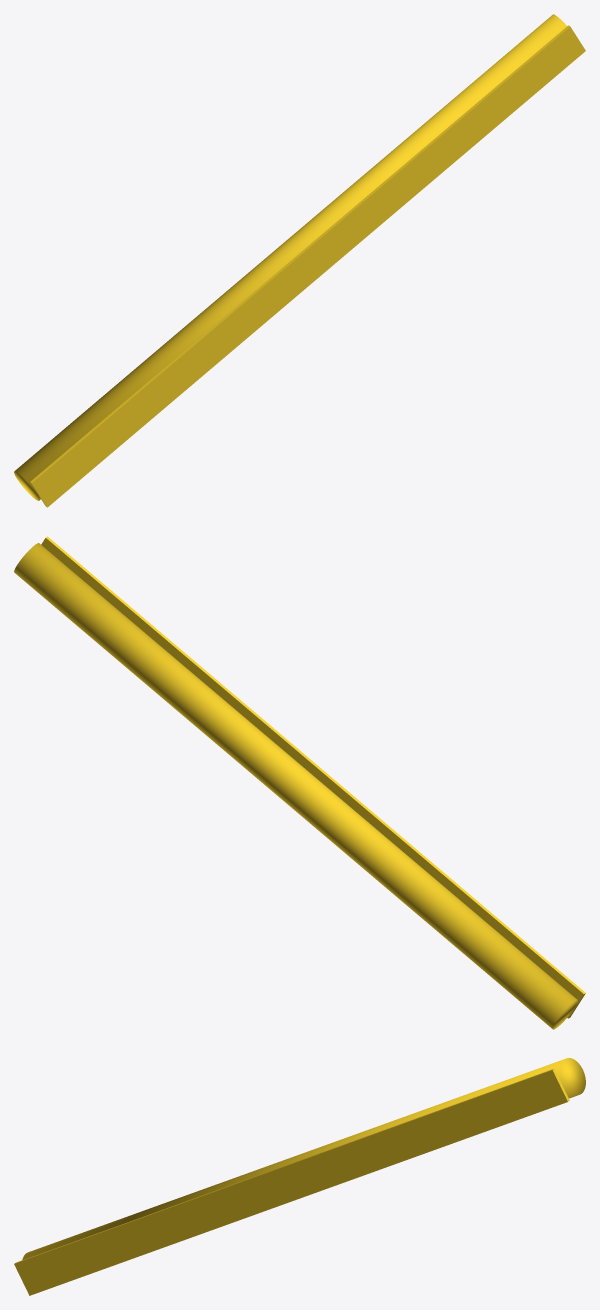
The model's file is arm_2_0.obj.
3 views of the same model, one above another, from view 1: azimuth 30°, elevation 25°; view 2: azimuth 150°, elevation 25°; view 3: azimuth 330°, elevation 25° (orthographic).
Parts seen in each view (by area): view 1: arm_2_0; view 2: arm_2_0; view 3: arm_2_0.
Part boxes in pixels (x1,y1,x2,y2): arm_2_0: [14, 14, 585, 507]; arm_2_0: [14, 536, 585, 1029]; arm_2_0: [14, 1058, 585, 1295].
Bounding box in the file's own units: 42.87 × 26.25 × 3.03.
